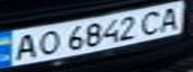2: (115, 12, 142, 42)
4: (100, 16, 124, 45)
6: (63, 22, 87, 52)
8: (81, 20, 106, 48)
A: (6, 30, 42, 62), (154, 3, 187, 33)
C: (136, 7, 169, 36)
O: (30, 27, 63, 56)
